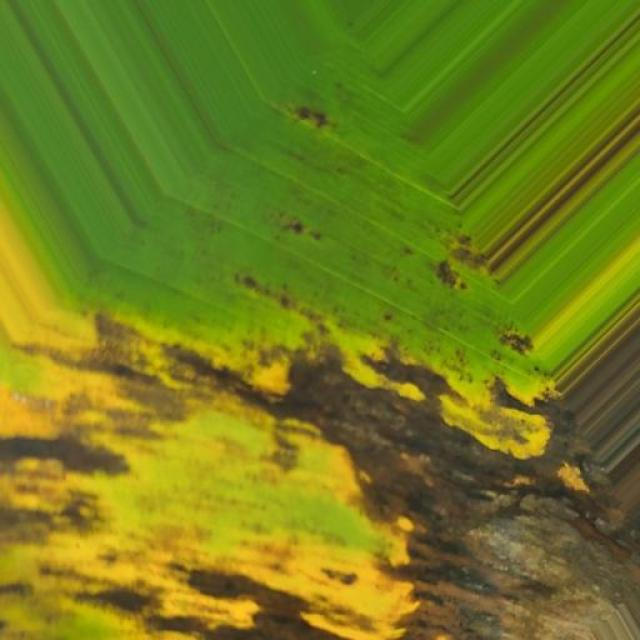Early_rust: (26, 113, 639, 640)
